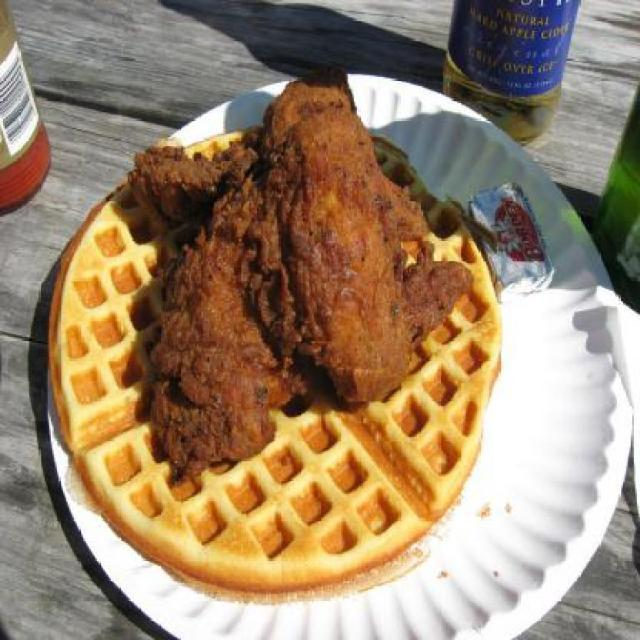Waffle: (48, 125, 504, 604)
